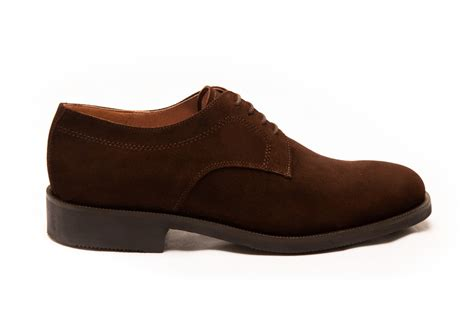gamuza: (46, 84, 426, 239)
